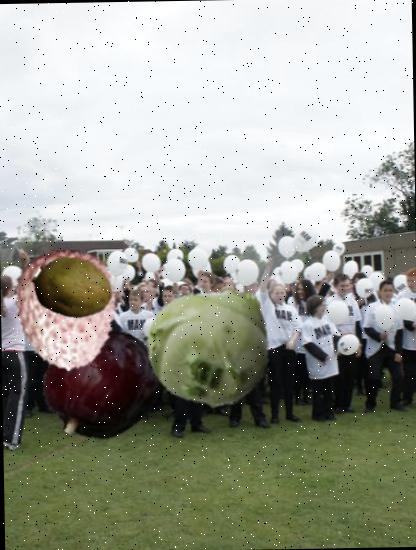Kohlrabi: (145, 275, 278, 408)
Lychee: (3, 248, 126, 372)
Papaya: (34, 249, 112, 328)
Plum: (41, 325, 160, 444)
